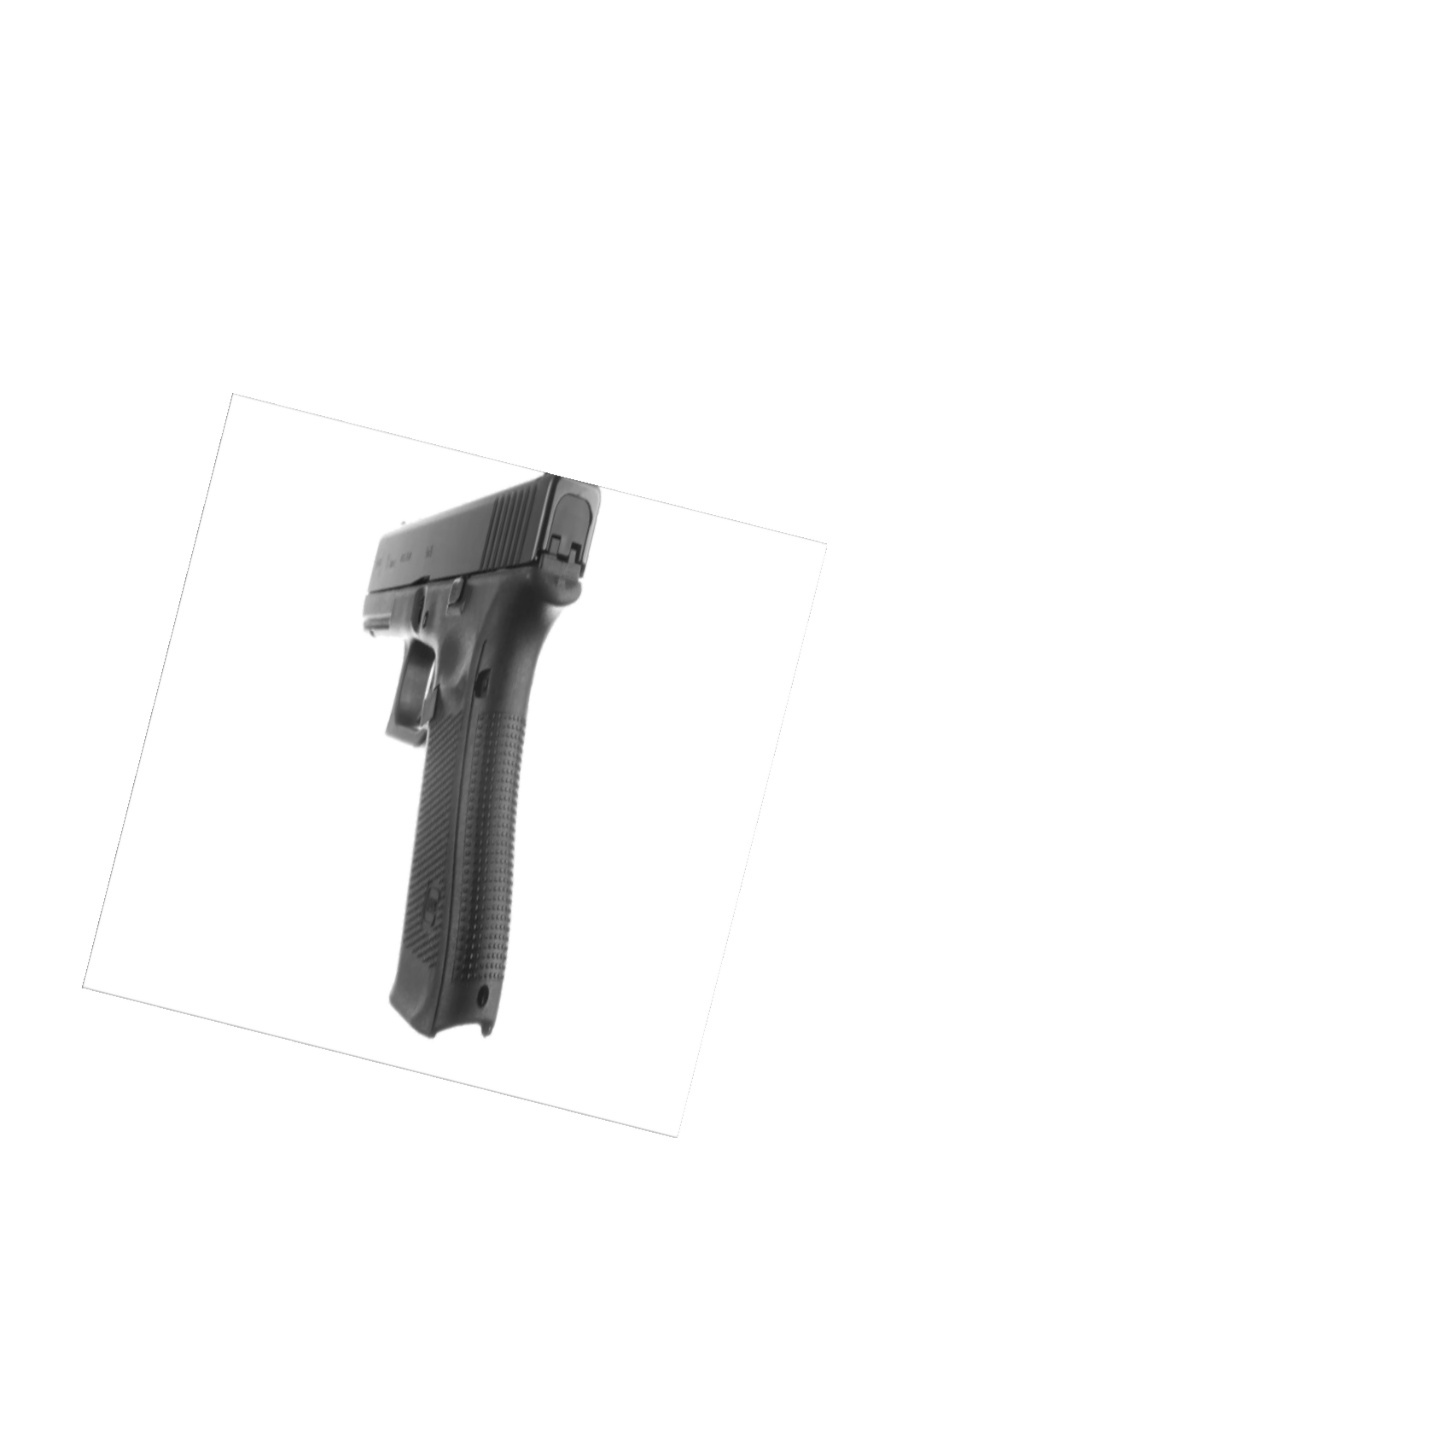gun: (353, 464, 611, 1046)
